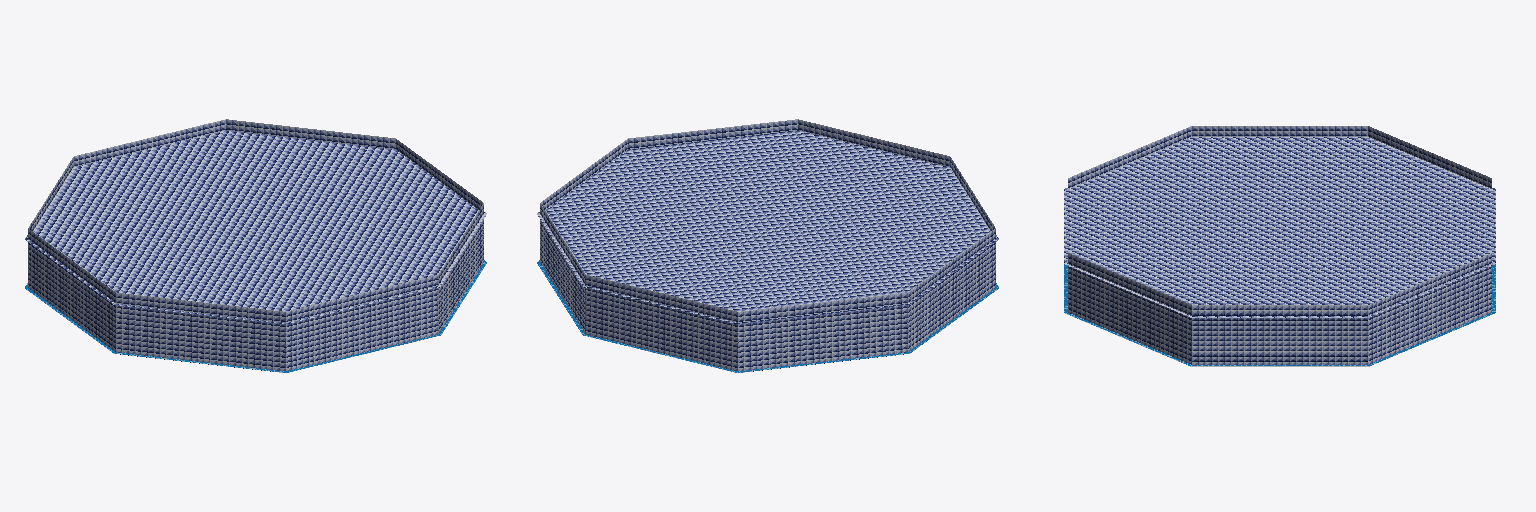
3 renders of one model, left to right at view 1: azimuth 30°, elevation 25°; view 2: azimuth 150°, elevation 25°; view 3: azimuth 270°, elevation 25°, orthographic.
Visible parts, largest first — view 1: course_model; view 2: course_model; view 3: course_model.
Part boxes in pixels (x1,y1,x2,y2): course_model: (25, 119, 486, 372); course_model: (537, 119, 998, 372); course_model: (1064, 126, 1495, 366).
Bounding box in the file's own units: 584 × 121 × 584.
Materials: 10 (9 with a texture image).